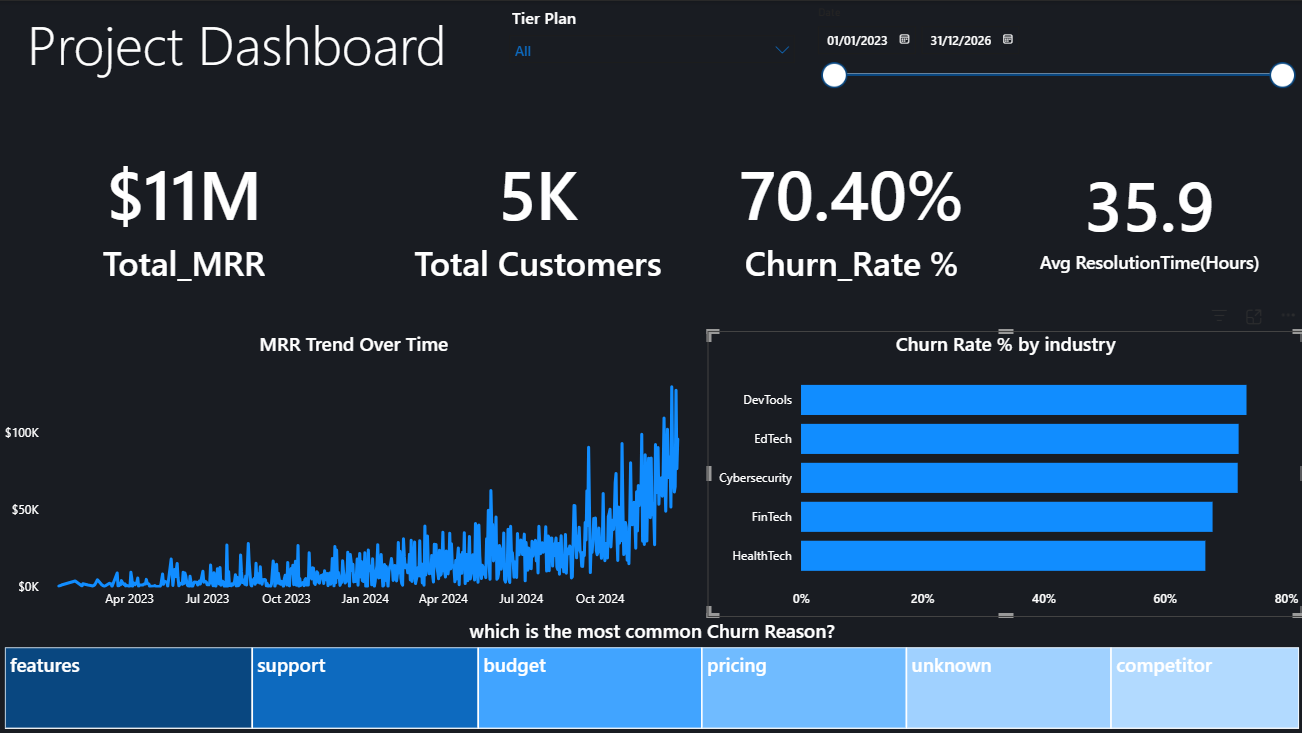

The page's visual inventory and layout, read from the dashboard file:
{"tool":"powerbi","page":{"name":"RavenStack Dashboard","canvas":[1280,720],"ordinal":0},"visuals":[{"type":"textbox","box":[0,0,465.2,81],"z":0},{"type":"cardVisual","fields":{"Data":["Measures (2).Total_MRR"]},"box":[0,98.2,362,225.8],"z":1000},{"type":"cardVisual","fields":{"Data":["Measures (2).Churn_Rate %"]},"box":[694.1,98.2,283.8,225.9],"z":2000},{"type":"cardVisual","fields":{"Data":["Count(ravenstack_subscriptions.subscription_id)"]},"box":[361.8,98.2,332.5,225.8],"z":3000},{"type":"cardVisual","fields":{"Data":["Measures (2).Avg ResolutionTime"]},"box":[977.9,98.2,301.8,225.8],"z":4000},{"type":"lineChart","title":"MRR Trend Over Time","fields":{"Category":["Calendar Table.Date"],"Y":["Sum(ravenstack_subscriptions.mrr_amount)"]},"box":[0,323.9,694.5,281],"z":5000},{"type":"barChart","title":"Churn Rate % by industry","fields":{"Y":["Measures (2).Churn_Rate %"],"Category":["ravenstack_accounts.industry"]},"box":[694.5,323.9,585.3,281],"z":6000},{"type":"treemap","title":"which is the most common Churn Reason?","fields":{"Group":["ravenstack_churn_events.reason_code"],"Values":["Measures (2).Churn_Rate %"]},"box":[0,605.2,1280.3,114.3],"z":7000},{"type":"slicer","fields":{"Values":["ravenstack_subscriptions.plan_tier"]},"box":[489.6,0,300.6,81],"z":8000},{"type":"slicer","fields":{"Values":["Calendar Table.Date"]},"box":[790.2,0,489.6,98.2],"z":9000}]}

Visuals, with their boxes in screenshot pixels (x1, y1, x2, y2), scaled from the page's 1280x720 canvas onto the 1302x733 screenshot:
textbox: left=0, top=0, right=473, bottom=82
cardVisual - Measures (2).Total_MRR: left=0, top=100, right=368, bottom=330
cardVisual - Measures (2).Churn_Rate %: left=706, top=100, right=995, bottom=330
cardVisual - Count(ravenstack_subscriptions.subscription_id): left=368, top=100, right=706, bottom=330
cardVisual - Measures (2).Avg ResolutionTime: left=995, top=100, right=1301, bottom=330
"MRR Trend Over Time" lineChart: left=0, top=330, right=706, bottom=616
"Churn Rate % by industry" barChart: left=706, top=330, right=1301, bottom=616
"which is the most common Churn Reason?" treemap: left=0, top=616, right=1301, bottom=732
slicer - ravenstack_subscriptions.plan_tier: left=498, top=0, right=804, bottom=82
slicer - Calendar Table.Date: left=804, top=0, right=1301, bottom=100
